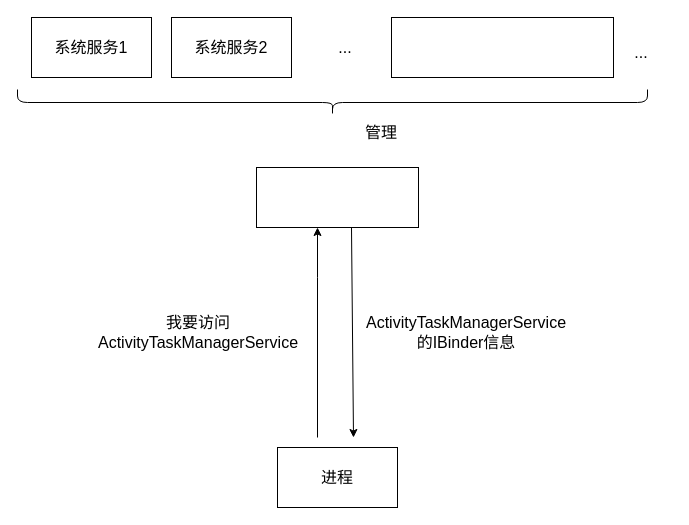
Image size: 689x525. Some labels were removed from this diagram. Each missing label, with the centre of its shape:
"ActivityTaskManagerService" goes at [502,47].
"ServiceManager" goes at [337,197].
